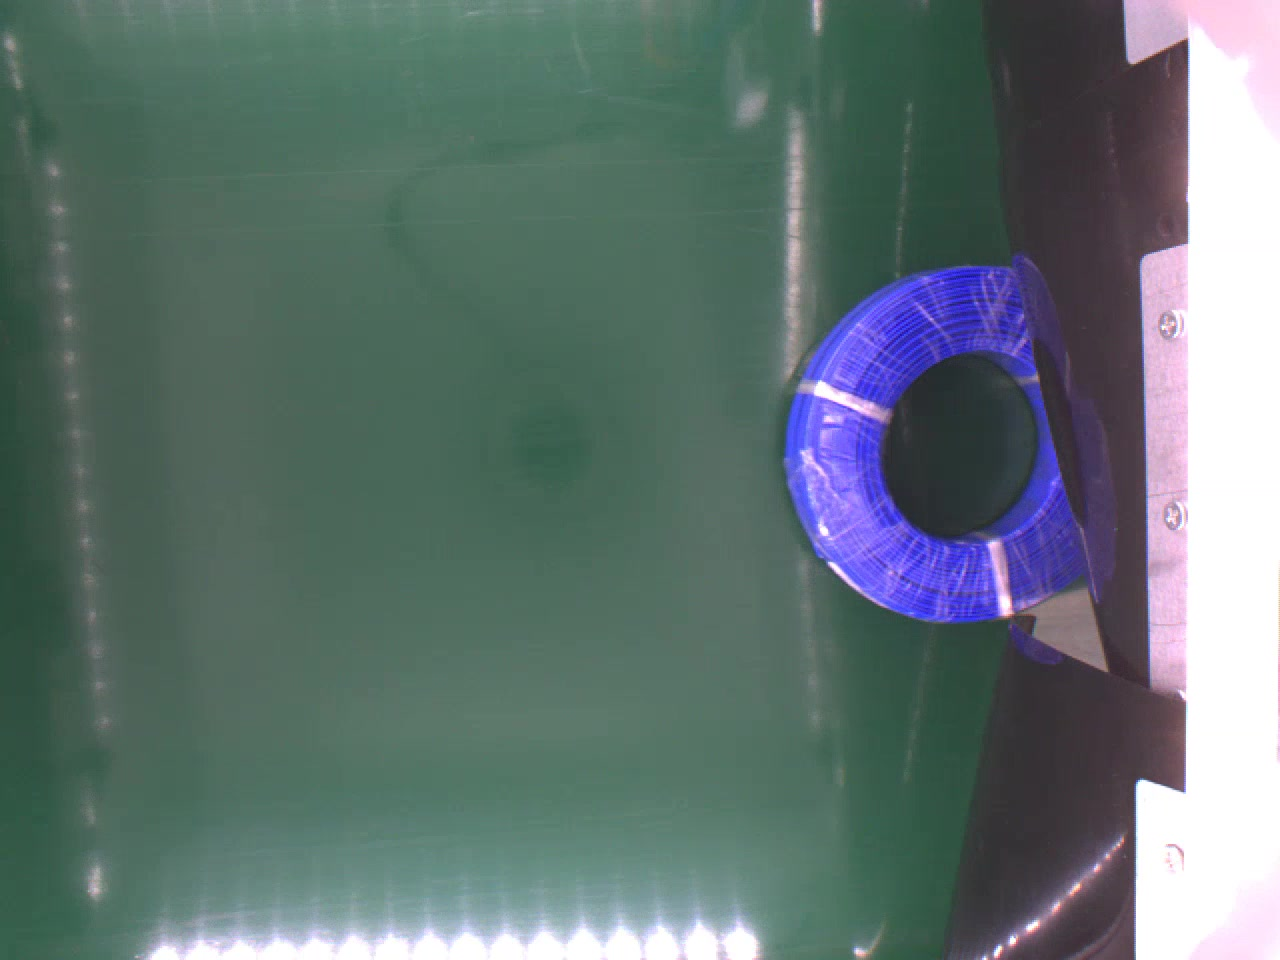blue: (783, 262, 1082, 625)
